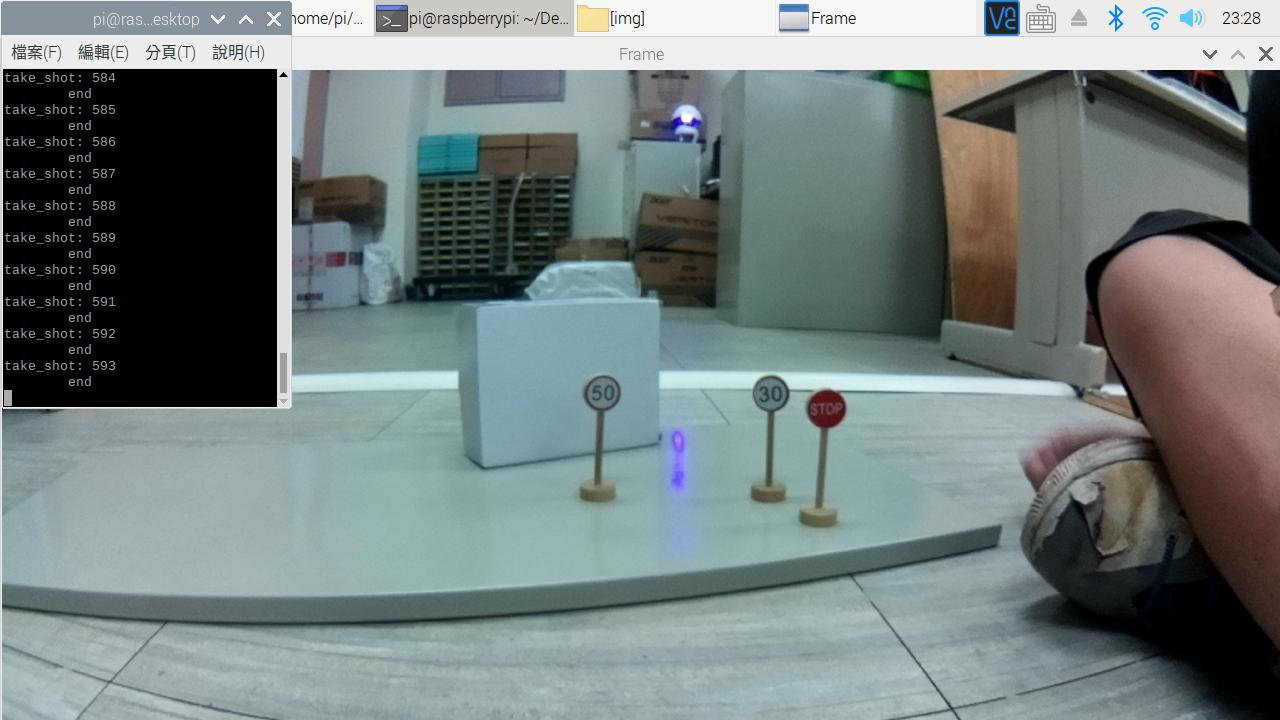Speed30: (746, 373, 795, 424)
Speed50: (570, 370, 627, 417)
Stop: (799, 378, 853, 440)
